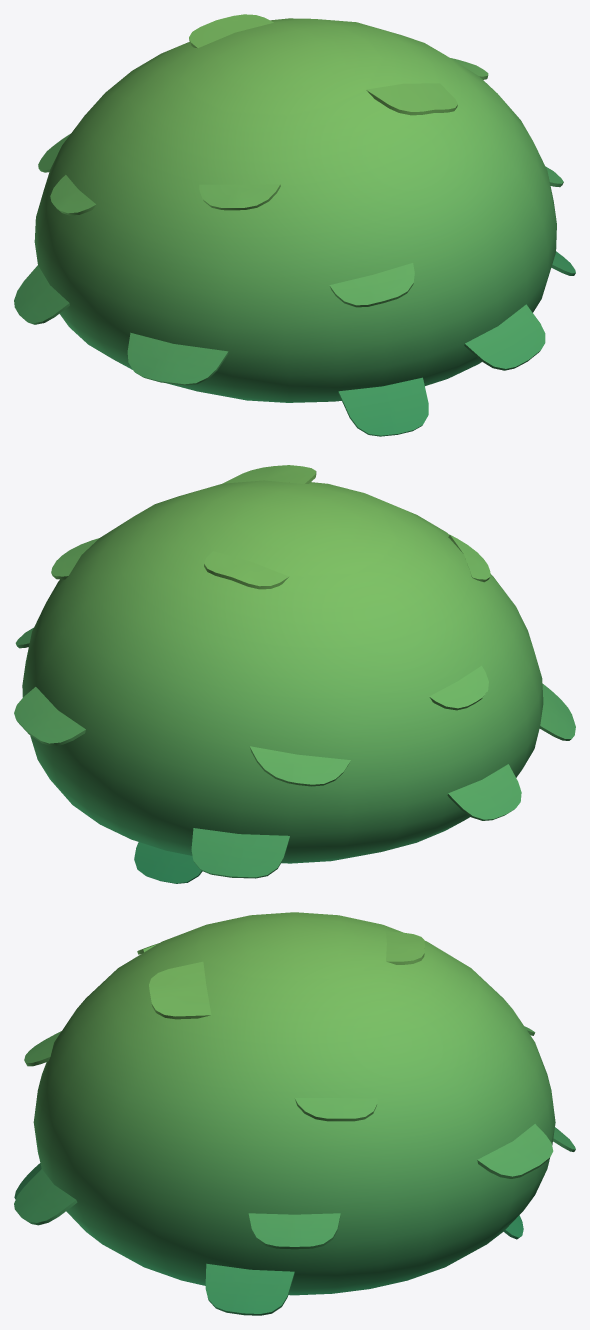
Rendered from Bush.fbx.
The picture shows the model from 3 angles, top to bottom: view 1: azimuth 30°, elevation 25°; view 2: azimuth 150°, elevation 25°; view 3: azimuth 270°, elevation 25°; orthographic projection.
Parts seen in each view (by area): view 1: Bush; view 2: Bush; view 3: Bush.
Part boxes in pixels (<box>): Bush: <box>14,14,575,436</box>; Bush: <box>14,465,575,883</box>; Bush: <box>14,912,575,1315</box>.
Size of the model in its own units: 1.57 by 0.8543 by 1.51.
